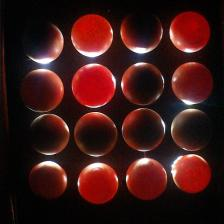fertile: (73, 112, 118, 158), (121, 61, 165, 106), (20, 68, 64, 113), (122, 108, 166, 152), (120, 10, 163, 54), (22, 21, 64, 64), (28, 113, 70, 155), (171, 108, 212, 151), (28, 161, 68, 201)
infertile: (71, 64, 117, 108), (70, 13, 114, 57), (125, 157, 168, 201), (76, 162, 119, 205), (169, 10, 210, 54), (171, 62, 213, 104), (172, 154, 212, 194)
